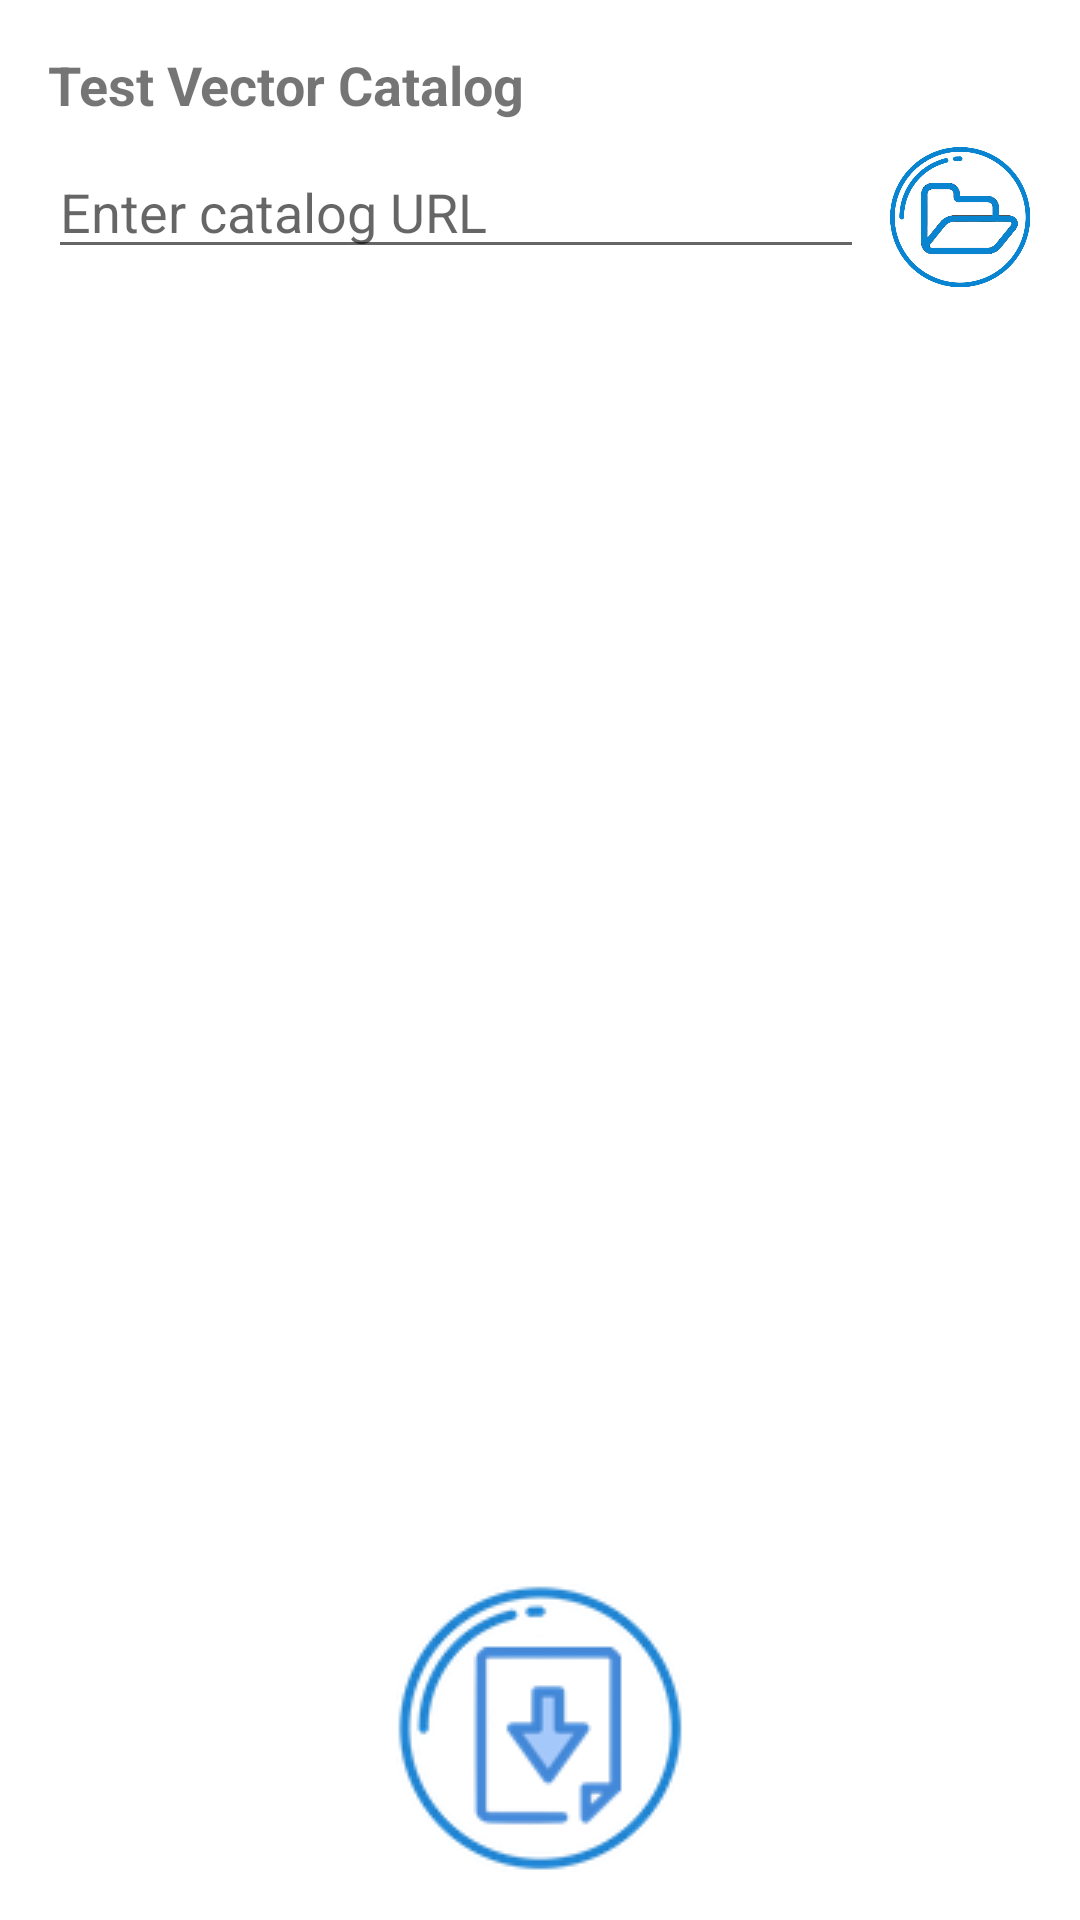

Icon bounding boxes for this 1080 × 1920 phone screenshot, format (x1, y1, x2, y2):
Download All: (398, 1586, 682, 1870)
Open Catalog: (890, 147, 1030, 287)
